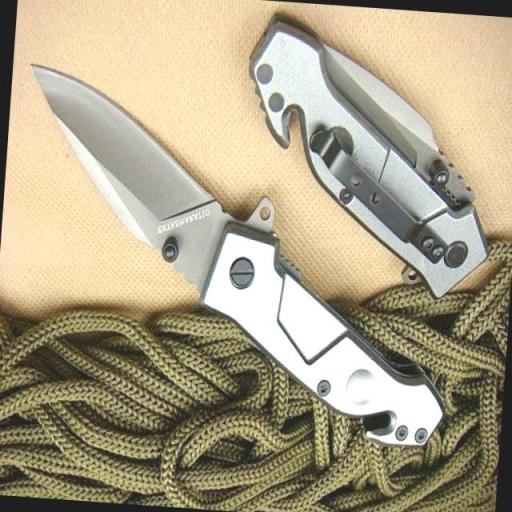knife: (6, 62, 470, 452)
